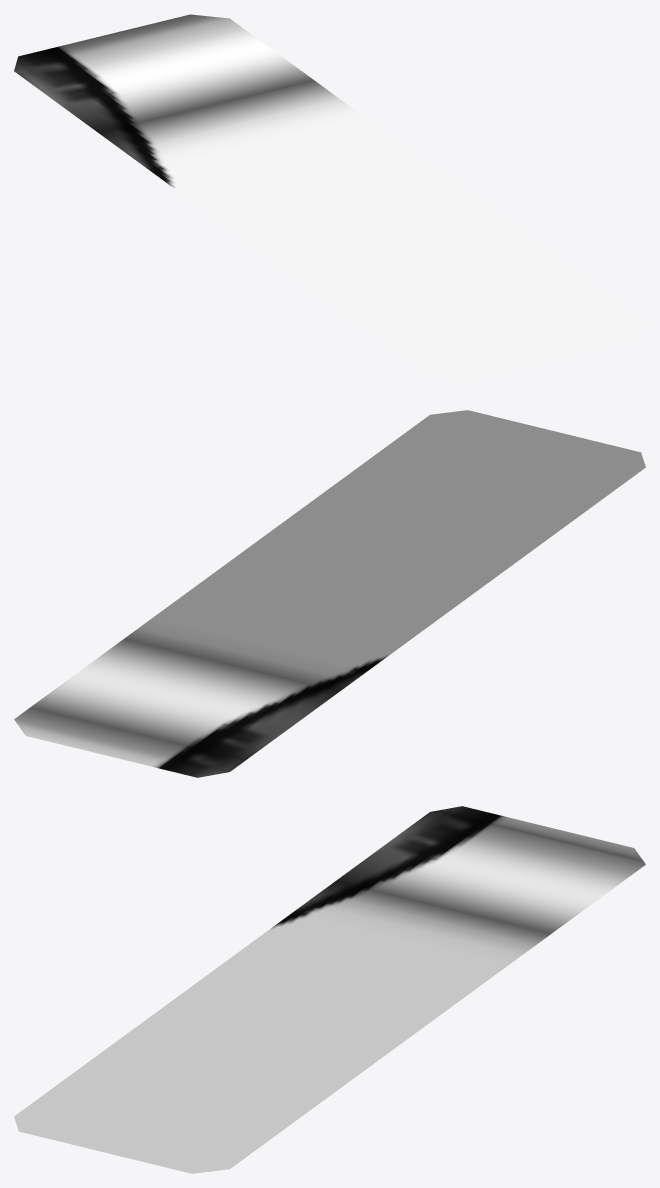
Rendered from Level 185.fbx.
The picture shows the model from 3 angles, top to bottom: view 1: azimuth 30°, elevation 25°; view 2: azimuth 150°, elevation 25°; view 3: azimuth 330°, elevation 25°; orthographic projection.
Visible parts, largest first — view 1: Blend1; view 2: Blend1; view 3: Blend1.
Part boxes in pixels (bbox=[...]): Blend1: bbox=[14, 14, 645, 381]; Blend1: bbox=[14, 410, 645, 777]; Blend1: bbox=[14, 806, 645, 1173].
Size of what is drawn, in the model's own units: 129 by 0.0335 by 459.
